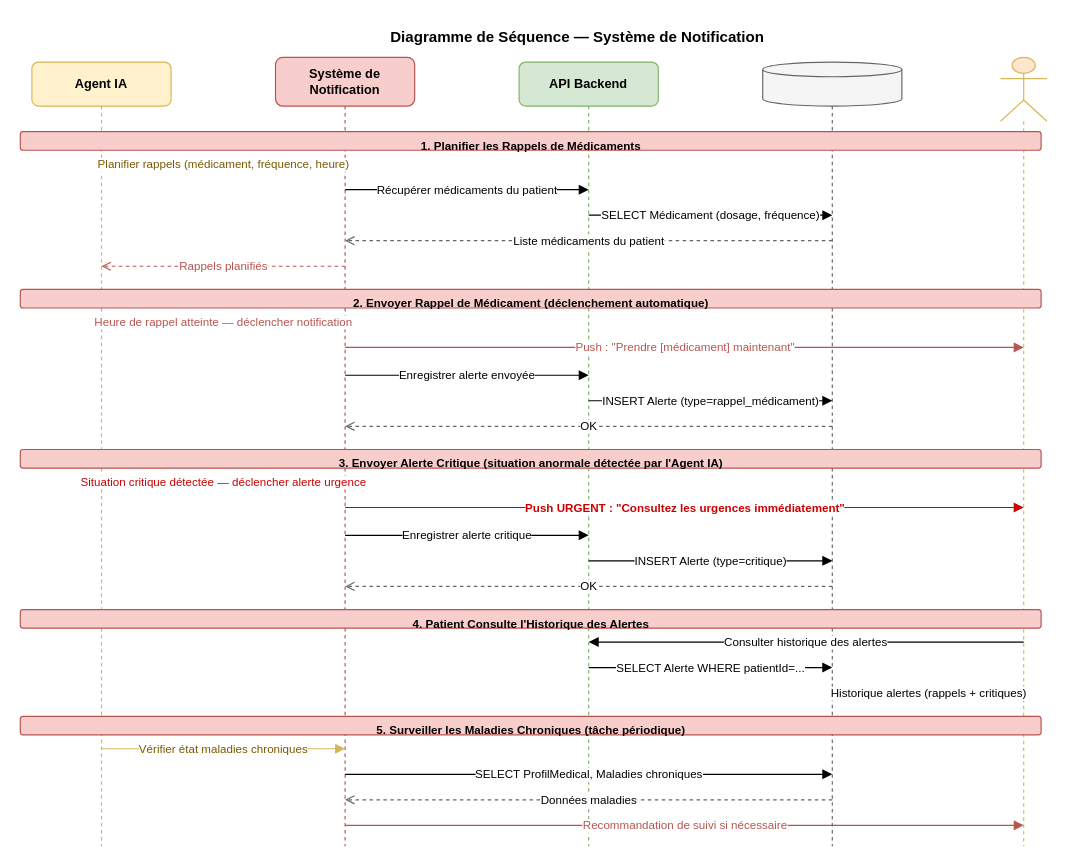
Image size: 1067x868. Some labels were removed from this diagram. The shapes that lost their labels are listed below. From the top down, each one's centre as x and y in pixels, then its label:
At (x=832, y=83): "Base de Données".
At (x=1023, y=88): "Patient".
